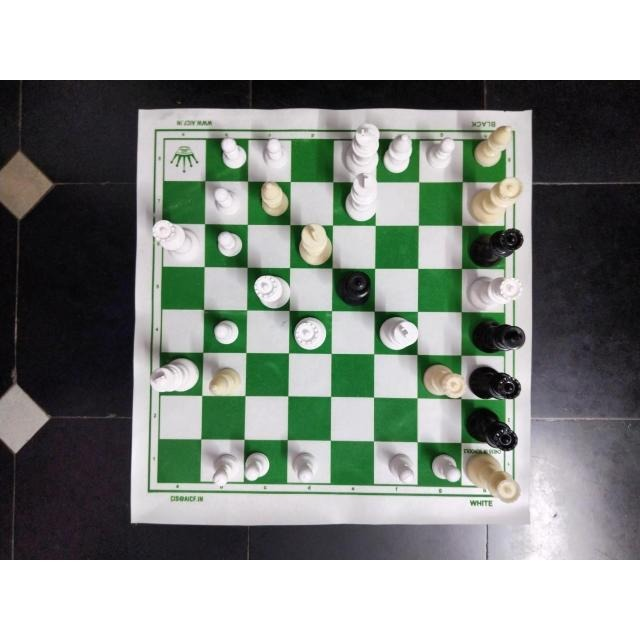black-king: (472, 319, 532, 355)
black-queen: (464, 405, 522, 453), (469, 360, 525, 403), (471, 226, 528, 264), (337, 270, 373, 304)
white-bishop: (472, 125, 513, 171), (203, 368, 247, 400), (386, 133, 414, 177), (257, 181, 289, 217)
white-king: (144, 357, 200, 393), (346, 171, 378, 225), (374, 316, 418, 355), (345, 123, 379, 170), (297, 223, 330, 268)
white-pawn: (206, 446, 245, 490), (213, 135, 253, 175), (288, 449, 332, 485), (422, 136, 457, 176), (254, 139, 290, 177), (428, 452, 464, 489), (386, 447, 417, 489), (208, 186, 247, 217), (243, 446, 278, 479), (213, 317, 245, 350), (216, 231, 248, 257)
white-queen: (463, 453, 519, 506), (464, 275, 526, 317), (152, 218, 204, 264), (424, 357, 471, 401), (249, 272, 293, 312), (291, 314, 327, 352)
